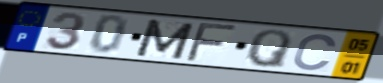0: (88, 14, 131, 56)
3: (45, 11, 88, 52)
C: (290, 33, 339, 73)
F: (182, 22, 242, 63)
M: (132, 18, 198, 61)
Q: (244, 28, 294, 71)
